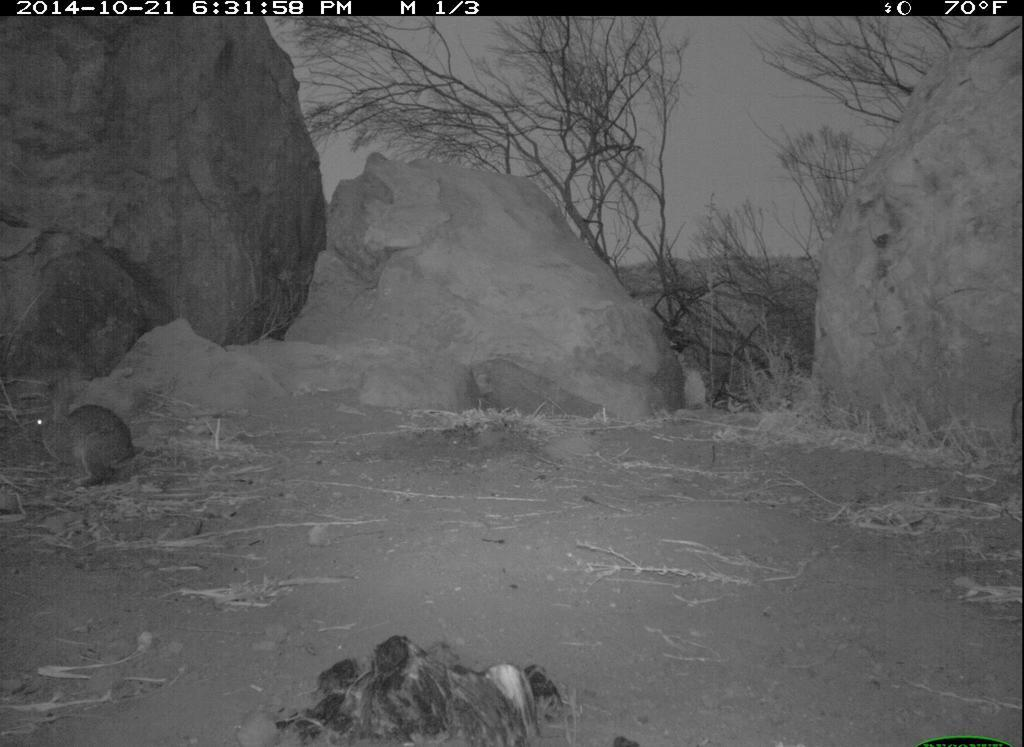rabbit: (24, 381, 152, 492)
